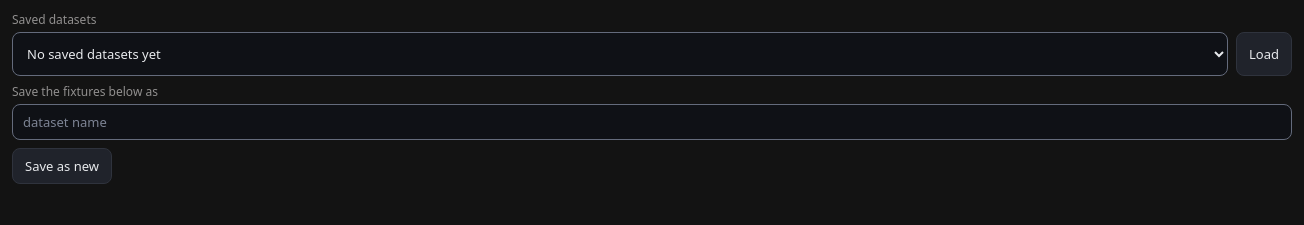
DatasetPicker › surfaces the editor's parse error instead of saving
Expected: the dropdown named "Saved dataset" is shown, [12,32,1228,76]
In the field labelled "dataset name": (652, 122) [12,104,1292,140], type "X"
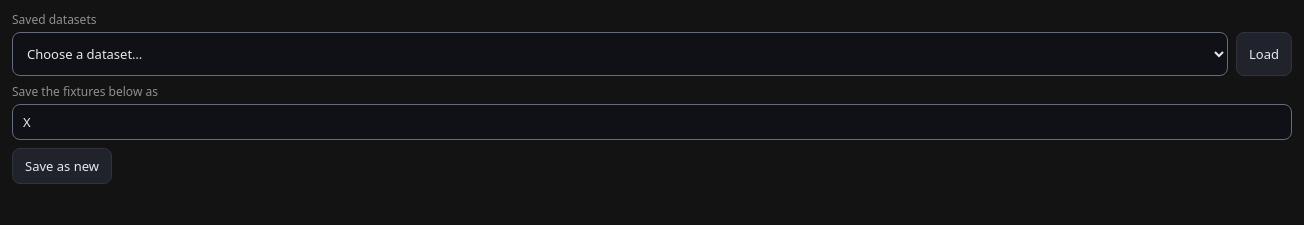
Click the button "Save as new": (62, 166) [12,148,112,184]
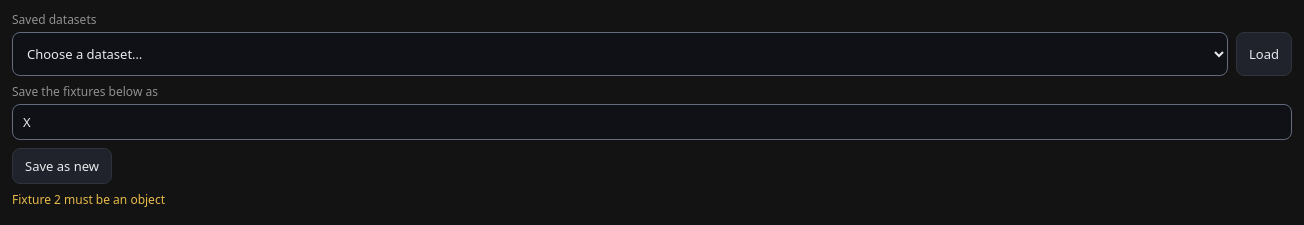
Expected: the message reads "Fixture 2 must be an object", [12,191,165,208]
